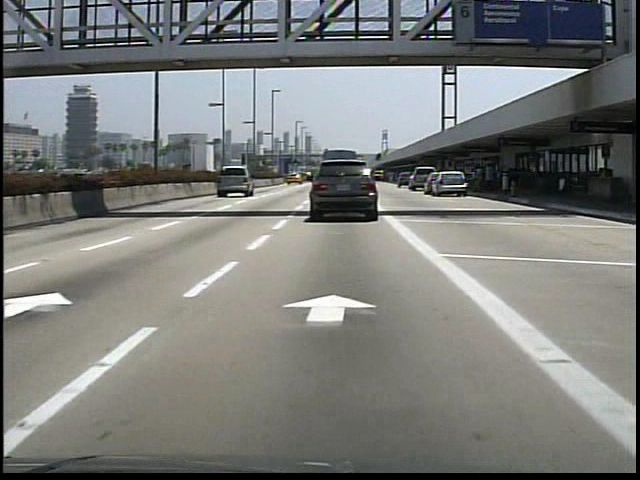person: (481, 159, 498, 196), (467, 164, 484, 197)
